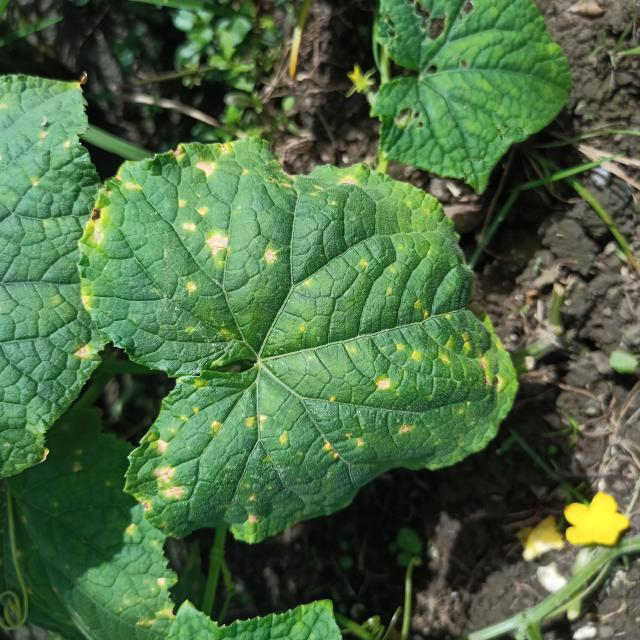disease_cucumber: (83, 141, 503, 527), (27, 127, 72, 190)
